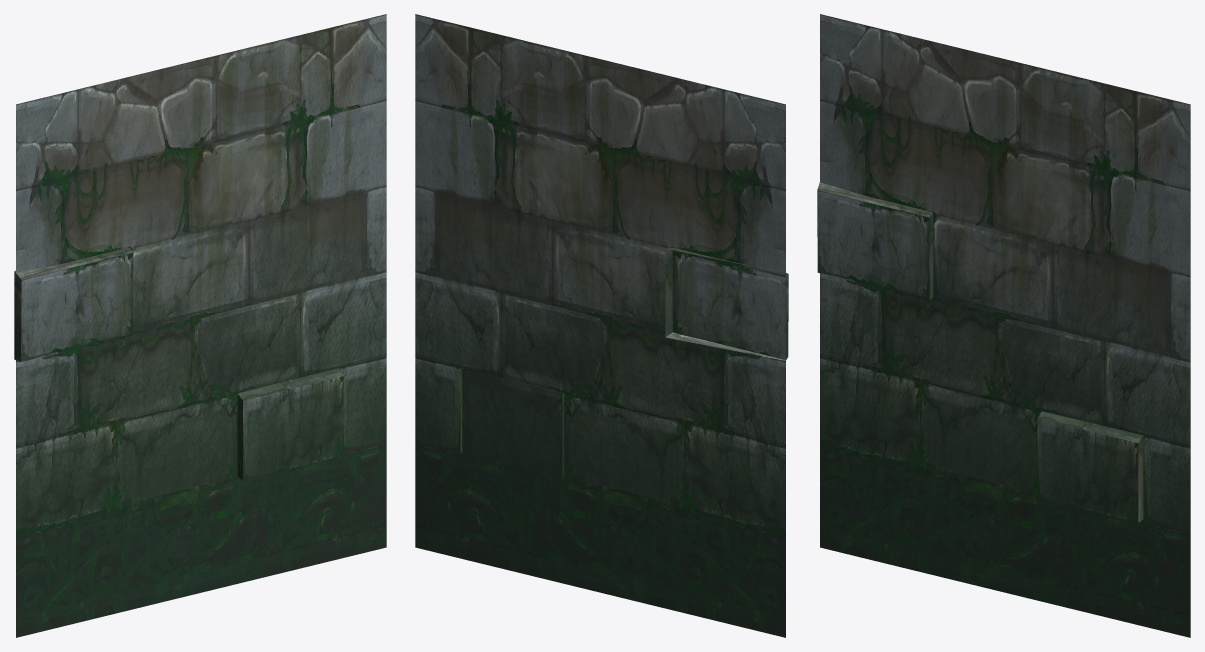
Rendered from stemple_wall_straight_06.fbx.
The picture shows the model from 3 angles, left to right: view 1: azimuth 30°, elevation 25°; view 2: azimuth 150°, elevation 25°; view 3: azimuth 330°, elevation 25°; orthographic projection.
Parts seen in each view (by area): view 1: obj0.096; view 2: obj0.096; view 3: obj0.096.
Boxes of the visible parts, left/top/right/bottom form: obj0.096: left=14, top=14, right=386, bottom=637; obj0.096: left=415, top=14, right=788, bottom=637; obj0.096: left=817, top=14, right=1190, bottom=637.
Bounding box in the file's own units: 4.01 × 5.5 × 0.219.
